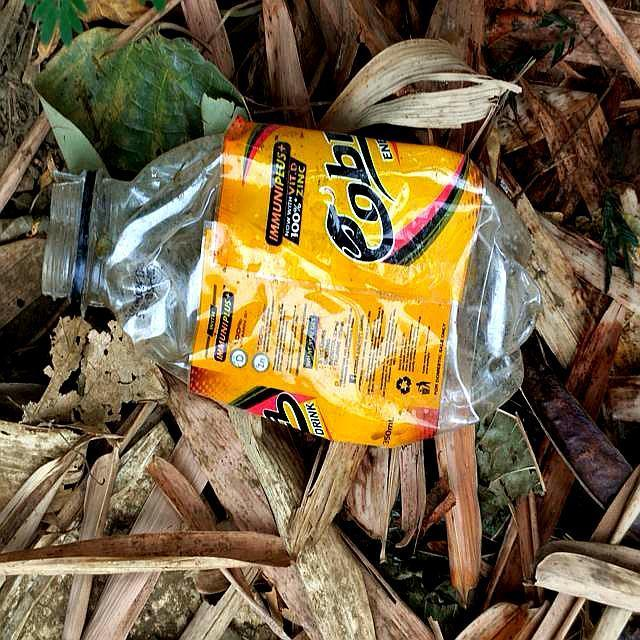Non-biodegradable: (41, 123, 541, 445)
